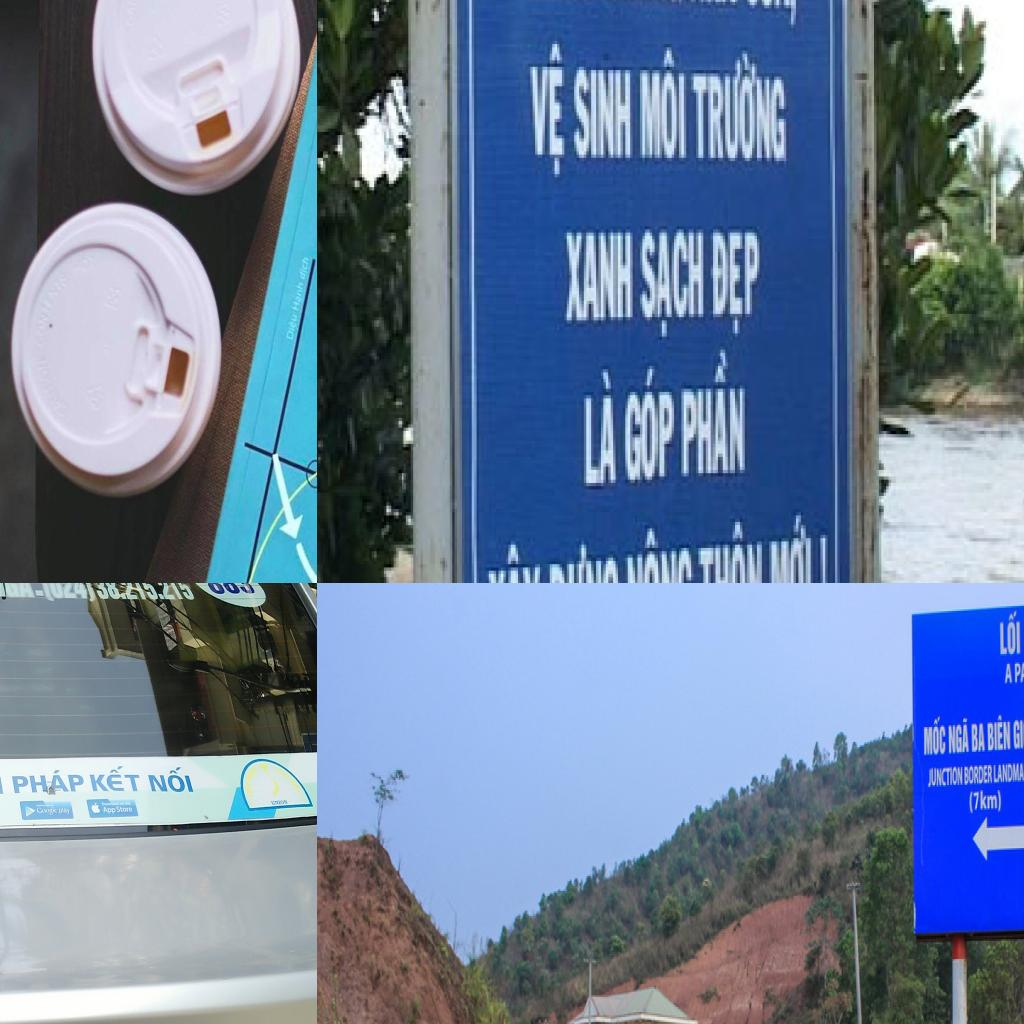text: (689, 54, 791, 171), (676, 350, 750, 486), (635, 226, 708, 343), (562, 223, 637, 327), (525, 41, 574, 187), (625, 360, 679, 490), (708, 226, 767, 343), (574, 64, 638, 168), (638, 44, 688, 168), (579, 366, 623, 489), (696, 515, 769, 583), (622, 522, 698, 583), (764, 509, 817, 583), (547, 534, 625, 583), (39, 583, 197, 603), (481, 538, 547, 583), (742, 0, 803, 31), (11, 769, 85, 794), (88, 766, 143, 793), (996, 609, 1024, 656), (146, 767, 194, 793), (921, 716, 947, 760), (928, 765, 968, 793), (988, 712, 1012, 755), (993, 760, 1024, 788), (969, 792, 1004, 816), (949, 719, 970, 755), (964, 764, 994, 788), (200, 583, 257, 595), (0, 583, 45, 598), (291, 279, 307, 314), (972, 719, 986, 757), (284, 310, 300, 342), (1012, 712, 1024, 752), (297, 255, 311, 283), (1003, 661, 1015, 687), (1013, 661, 1024, 684), (36, 807, 58, 816), (102, 806, 117, 816), (116, 806, 133, 813), (270, 800, 288, 806), (58, 807, 70, 815), (101, 802, 110, 807)
